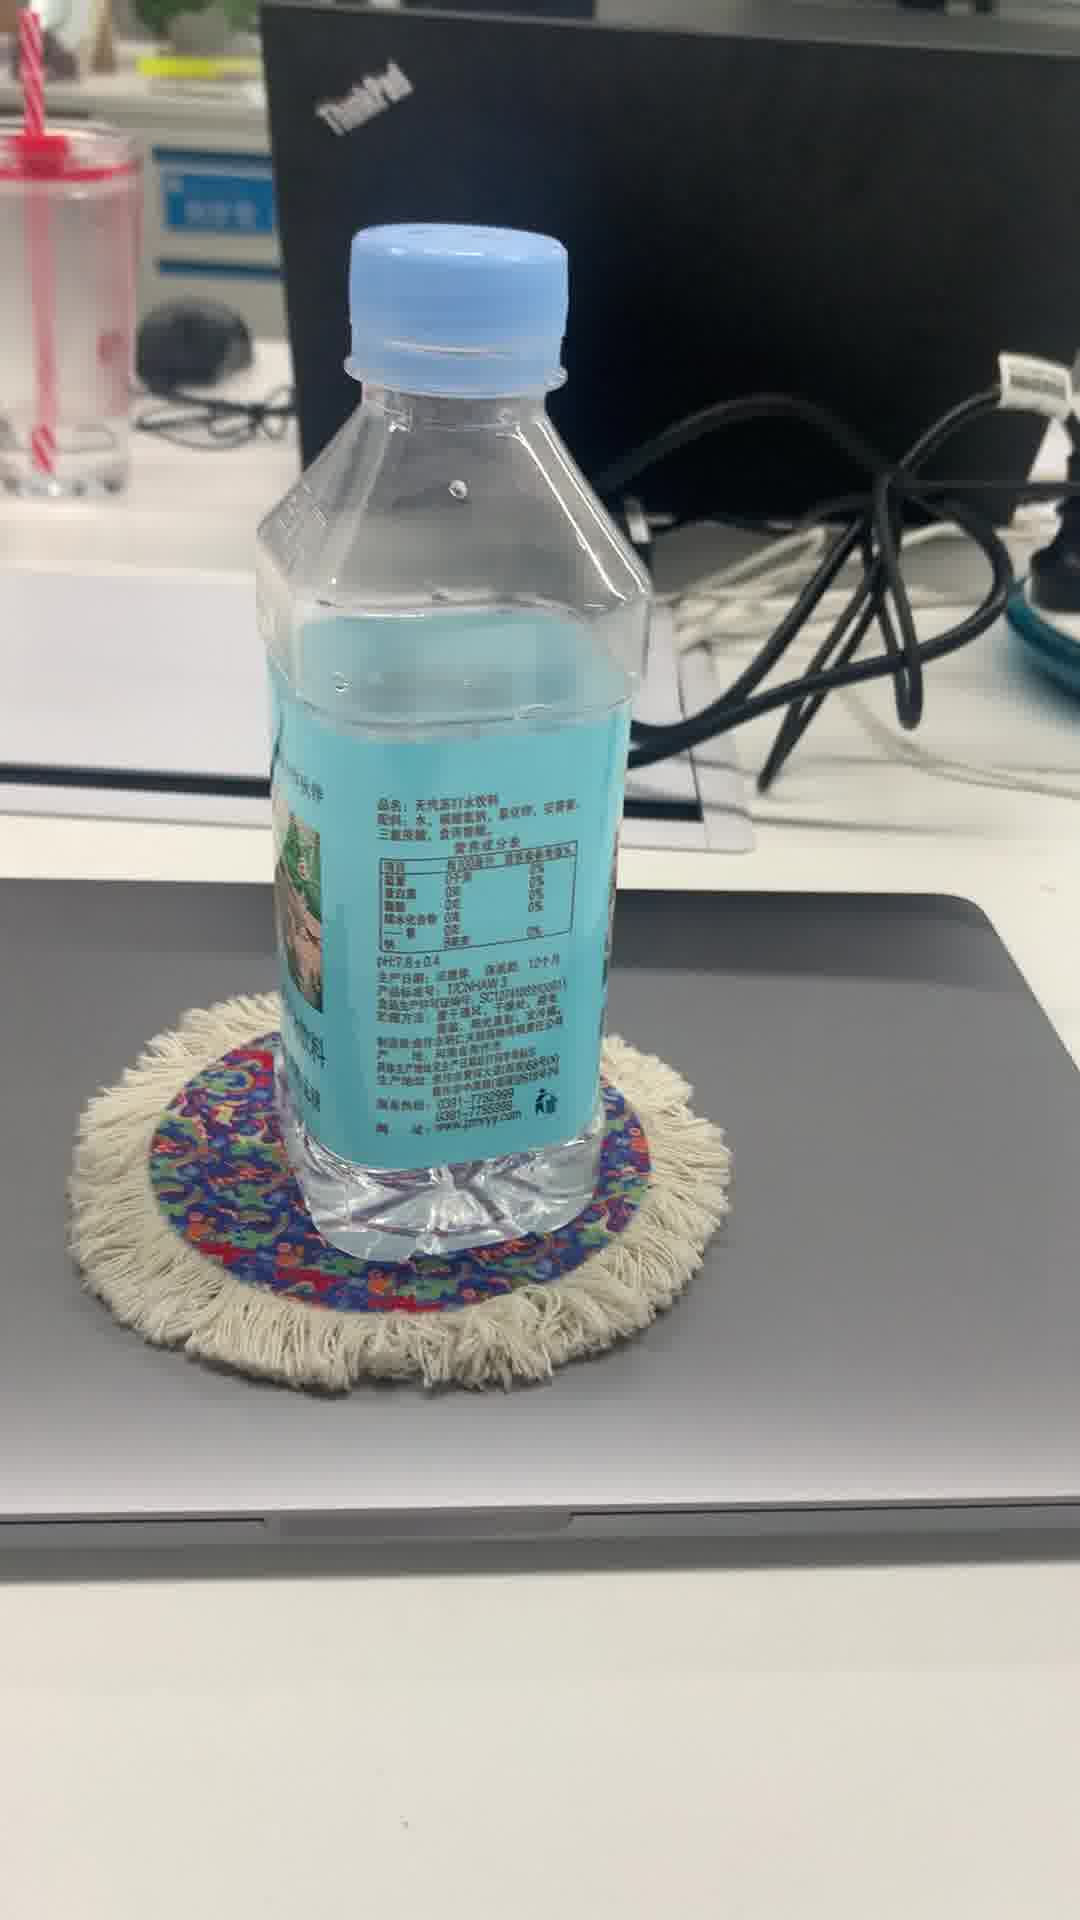水瓶: (248, 218, 659, 1266)
